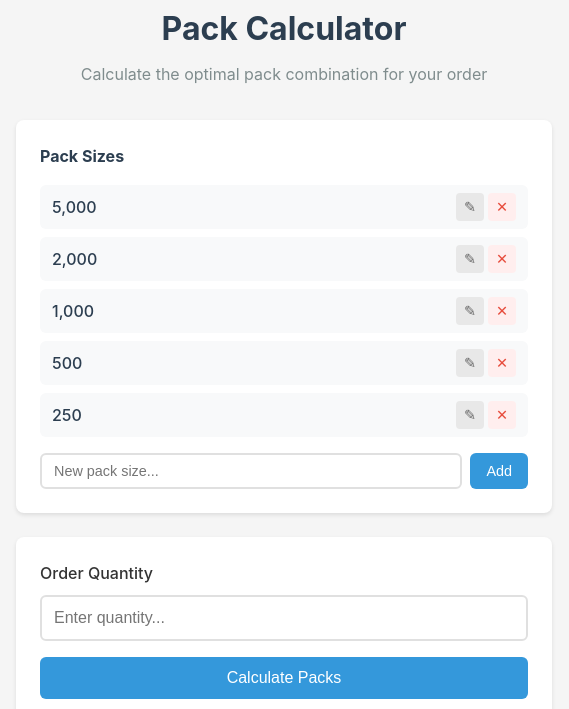
Test case: Pack Sizes Management › can add a new pack size
This screenshot has width=569, height=709.
Expected: the element with test id "pack-sizes-manager" is shown, x1=16 y1=120 x2=552 y2=513
Type "750" into the number field with placeholder "New pack size..." at (251, 471), box x1=40 y1=453 x2=462 y2=489
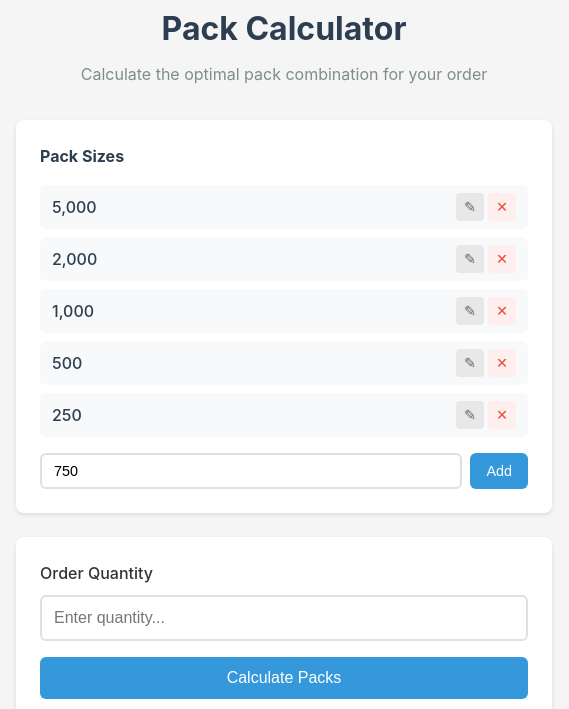
Click the button "Add" at (499, 471), box x1=470 y1=453 x2=528 y2=489
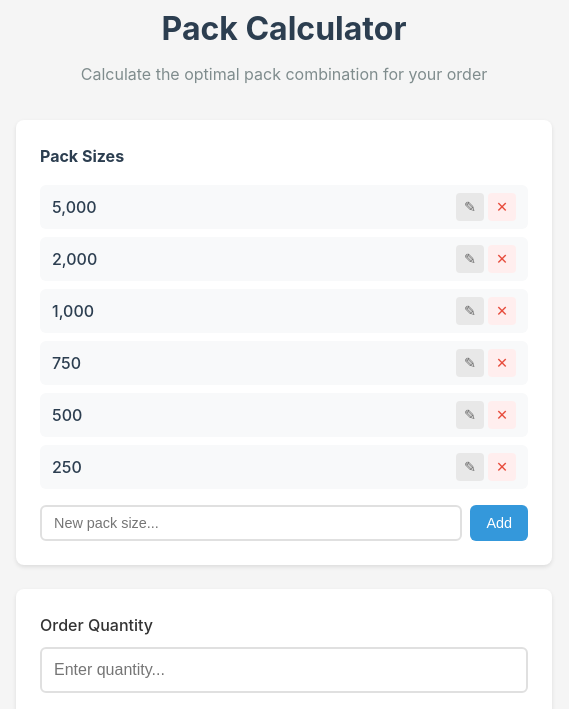
Expected: the text "750" is shown, x1=52 y1=351 x2=81 y2=376
